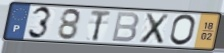3: (26, 6, 56, 40)
8: (56, 8, 83, 41)
B: (110, 11, 141, 44)
O: (168, 14, 197, 48)
T: (89, 9, 113, 43)
X: (138, 12, 172, 45)
